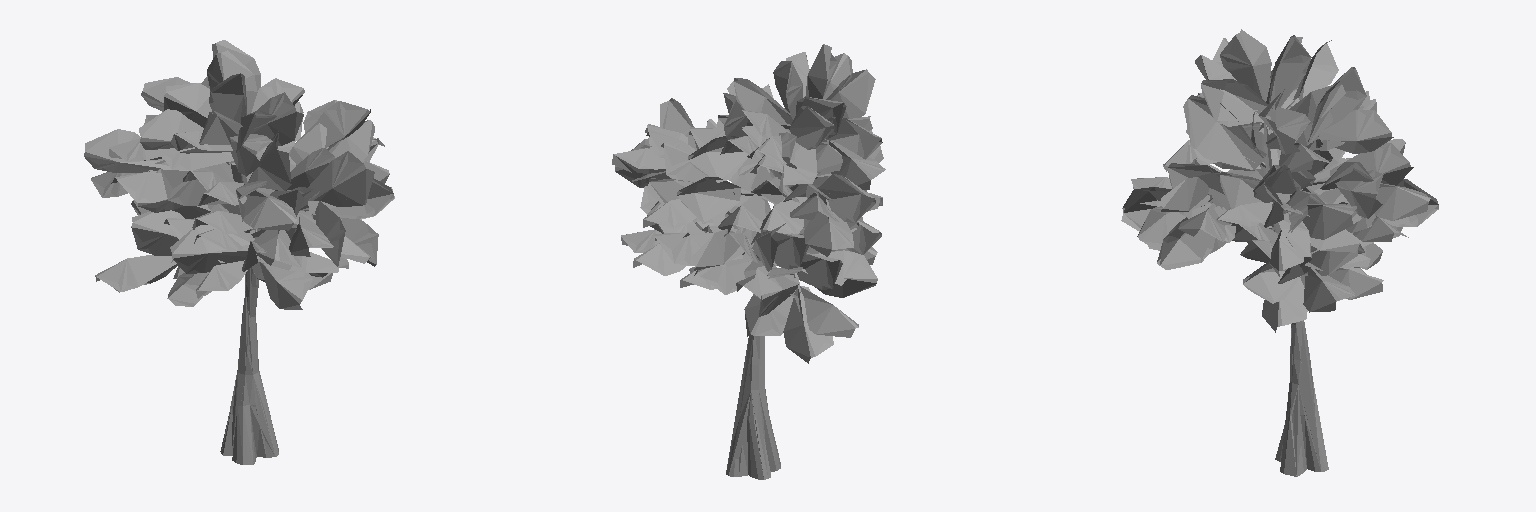
Rendered from CiabaTree_02_blender.obj.
3 views of the same model, side by side, from view 1: azimuth 30°, elevation 25°; view 2: azimuth 150°, elevation 25°; view 3: azimuth 270°, elevation 25° (orthographic).
Parts seen in each view (by area): view 1: Untitled_CiabaTreeOne256, Untitled.002_CiabaTreeOne96, Untitled.001_CiabaTreeOne128; view 2: Untitled_CiabaTreeOne256, Untitled.002_CiabaTreeOne96, Untitled.001_CiabaTreeOne128; view 3: Untitled.002_CiabaTreeOne96, Untitled_CiabaTreeOne256, Untitled.001_CiabaTreeOne128.
Part boxes in pixels (left/top/right/bottom): Untitled_CiabaTreeOne256: left=84, top=43, right=393, bottom=464; Untitled.002_CiabaTreeOne96: left=85, top=40, right=394, bottom=457; Untitled.001_CiabaTreeOne128: left=103, top=45, right=376, bottom=453; Untitled_CiabaTreeOne256: left=615, top=52, right=885, bottom=479; Untitled.002_CiabaTreeOne96: left=612, top=44, right=884, bottom=474; Untitled.001_CiabaTreeOne128: left=640, top=65, right=878, bottom=479; Untitled.002_CiabaTreeOne96: left=1121, top=29, right=1437, bottom=474; Untitled_CiabaTreeOne256: left=1122, top=33, right=1438, bottom=476; Untitled.001_CiabaTreeOne128: left=1124, top=47, right=1408, bottom=467.
Bounding box in the file's own units: 8.68 × 12.18 × 8.51.